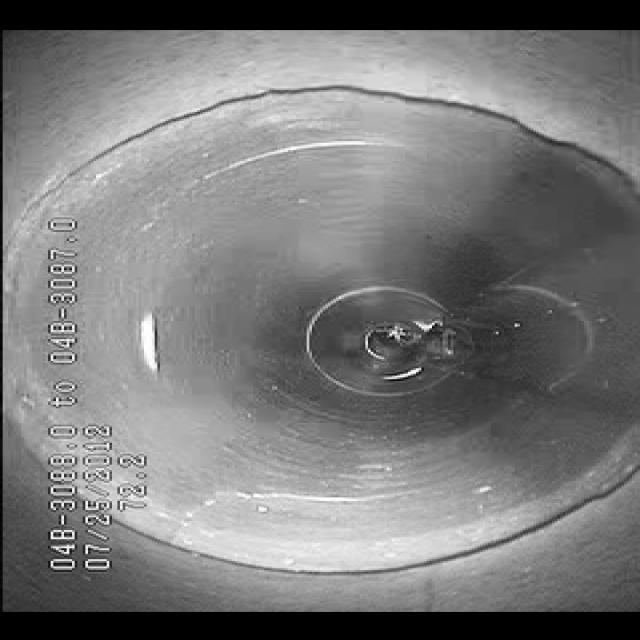Crack: (162, 468, 394, 546)
